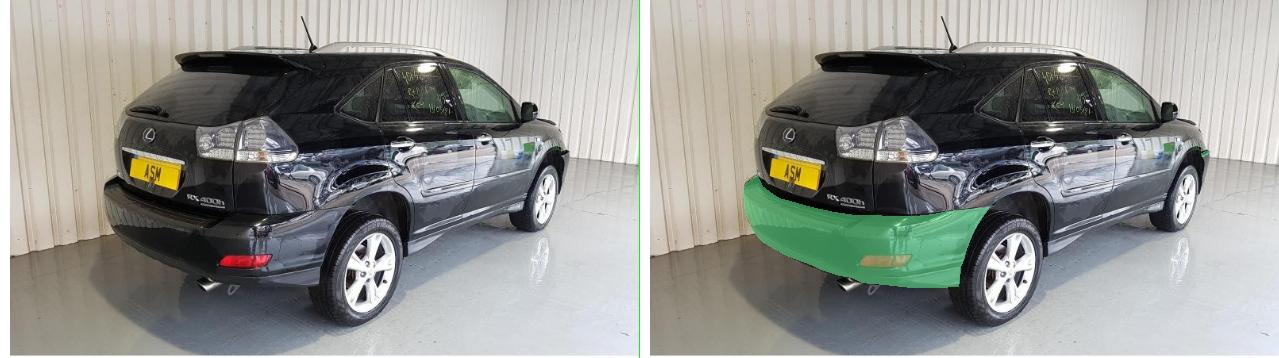Broken part: (206, 175, 699, 287), (1123, 151, 1137, 156)
